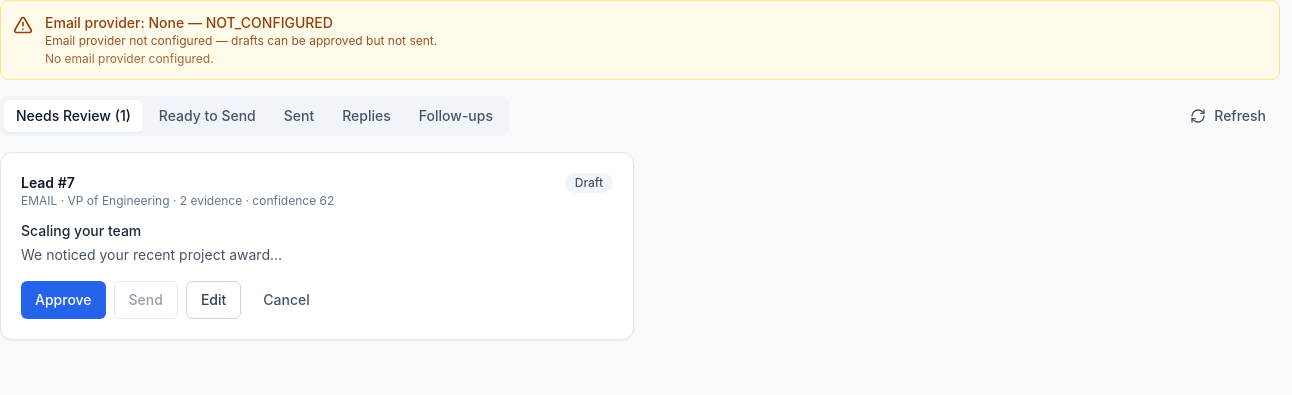
OutreachWorkspace › shows an honest empty state in the Sent tab when nothing is sent
This screenshot has width=1292, height=395.
expect the text "Scaling your team" is shown: met, box x1=21 y1=222 x2=141 y2=239
What coordinates should you click on to do the following:
click the tab "Sent"
I would click on:
 (299, 116)
Its box is x1=272 y1=100 x2=326 y2=132.
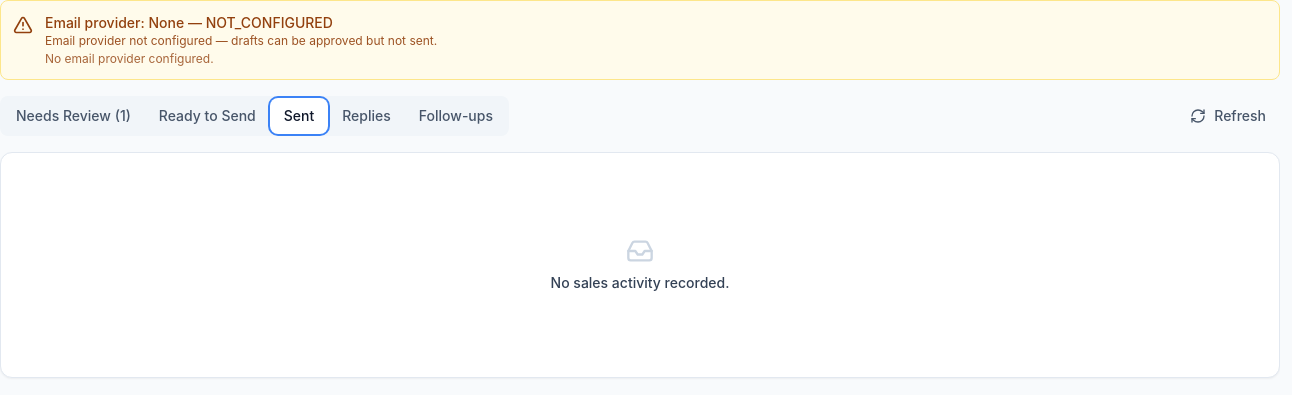
expect the text "No sales activity recorded." is shown: met, box x1=551 y1=273 x2=730 y2=293
